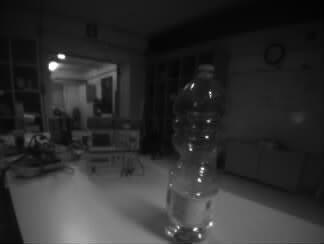Bottle: (168, 63, 220, 242)
